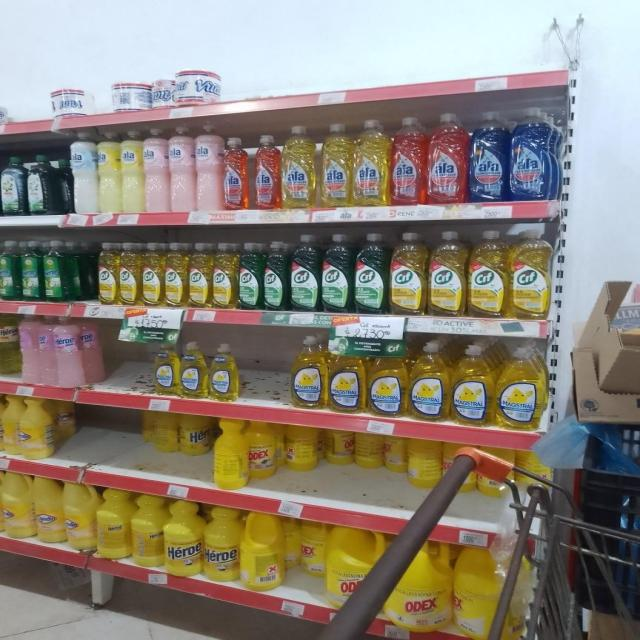ala_conc_amarillo: (354, 119, 389, 207), (281, 124, 316, 209), (319, 122, 352, 207)
ala_conc_azul: (509, 106, 558, 201), (469, 110, 507, 202)
ala_conc_rojo: (427, 112, 467, 204), (391, 116, 425, 206), (252, 134, 280, 210), (223, 135, 249, 211)
ala_crem_rosado: (196, 121, 222, 212), (170, 124, 195, 212), (55, 316, 82, 388), (82, 317, 105, 386)
cif_conc_bot_amarilla: (510, 227, 550, 320), (468, 229, 507, 319), (428, 230, 466, 317), (390, 231, 426, 316), (213, 241, 237, 310), (188, 242, 212, 309), (164, 242, 187, 308), (141, 242, 163, 307), (96, 241, 117, 306), (119, 242, 140, 306)
cif_conc_botella_verde: (354, 232, 388, 314), (321, 233, 352, 313), (290, 234, 320, 312), (264, 240, 288, 311), (239, 242, 262, 310)
heroe: (0, 312, 19, 376)
magistral_con_amarillo: (495, 345, 546, 431), (452, 343, 494, 427), (409, 340, 450, 422), (368, 343, 407, 418), (328, 340, 366, 414), (290, 335, 327, 410), (210, 342, 240, 402), (180, 340, 208, 399), (153, 339, 179, 396)
